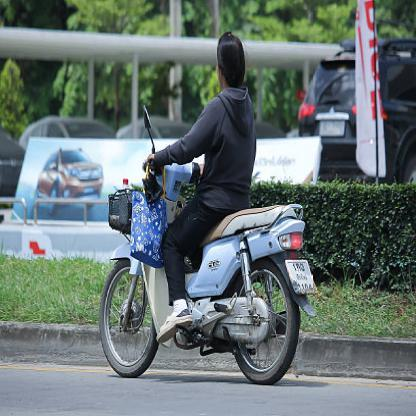Motorcycle: (96, 150, 305, 388)
